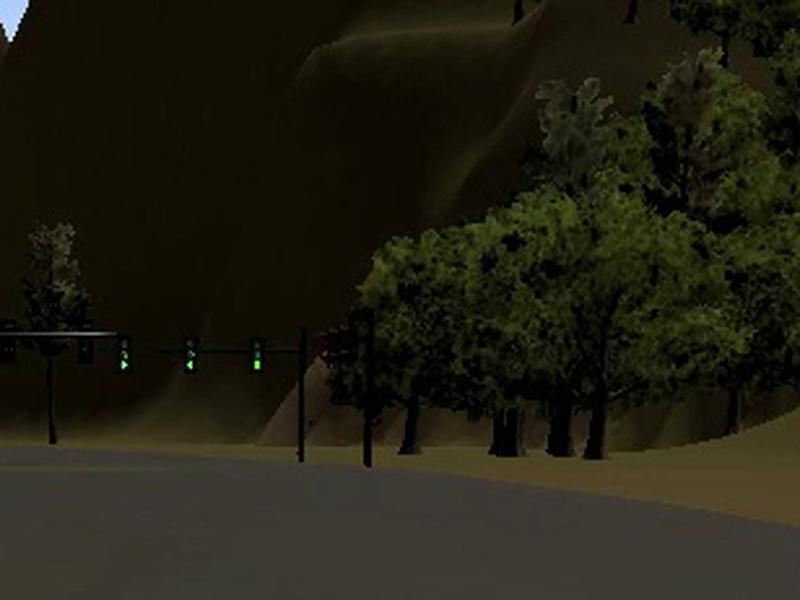Green: (117, 336, 132, 371), (250, 340, 263, 372), (183, 340, 196, 372)
